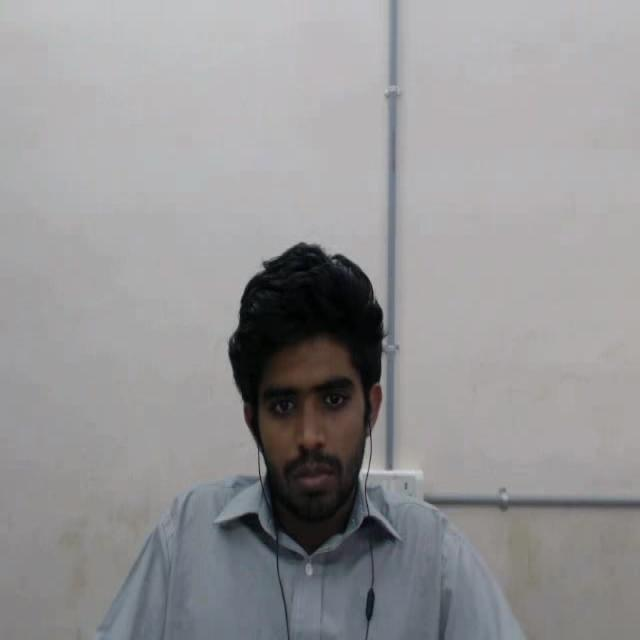Engaged: (211, 241, 402, 531)
